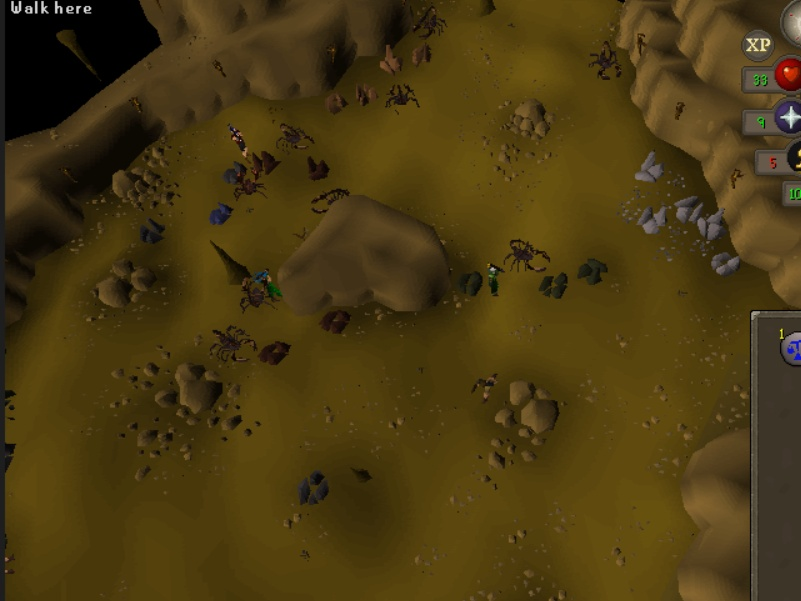coal: (575, 252, 613, 289), (454, 264, 485, 300), (539, 265, 570, 301)
copper: (375, 42, 405, 77), (406, 40, 435, 71), (350, 77, 379, 108), (319, 85, 348, 116)
iron: (320, 301, 354, 337), (257, 336, 291, 372), (302, 147, 332, 182), (249, 144, 279, 179)
mithril: (205, 202, 240, 230)
tin: (633, 146, 665, 187), (633, 202, 675, 233), (668, 191, 710, 222), (694, 210, 736, 241), (707, 248, 749, 279)
